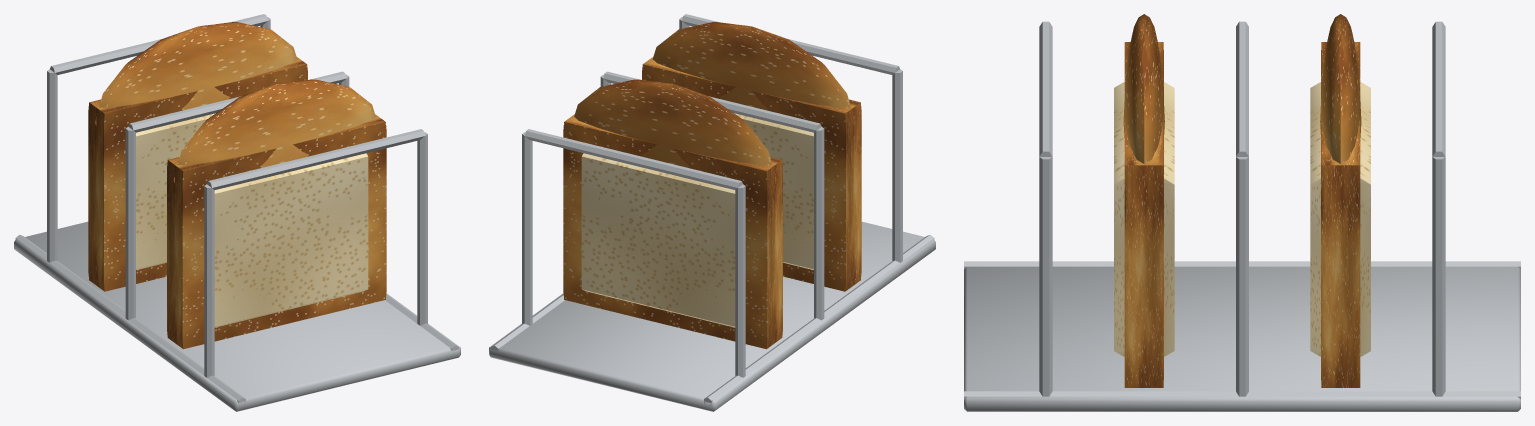
File: bakery_toast_in_rack.glb
3 views of the same model, side by side, from view 1: azimuth 30°, elevation 25°; view 2: azimuth 150°, elevation 25°; view 3: azimuth 270°, elevation 25° (orthographic). The views are drawn at different scales.
Visible parts, largest first — view 1: bakery_toast_in_rack; view 2: bakery_toast_in_rack; view 3: bakery_toast_in_rack.
Part boxes in pixels (x1=…): bakery_toast_in_rack: x1=14, y1=14, x2=460, y2=411; bakery_toast_in_rack: x1=489, y1=14, x2=935, y2=411; bakery_toast_in_rack: x1=964, y1=14, x2=1520, y2=411.
Bounding box in the file's own units: 0.1 × 0.105 × 0.17.
Materials: 3 (2 with a texture image).
